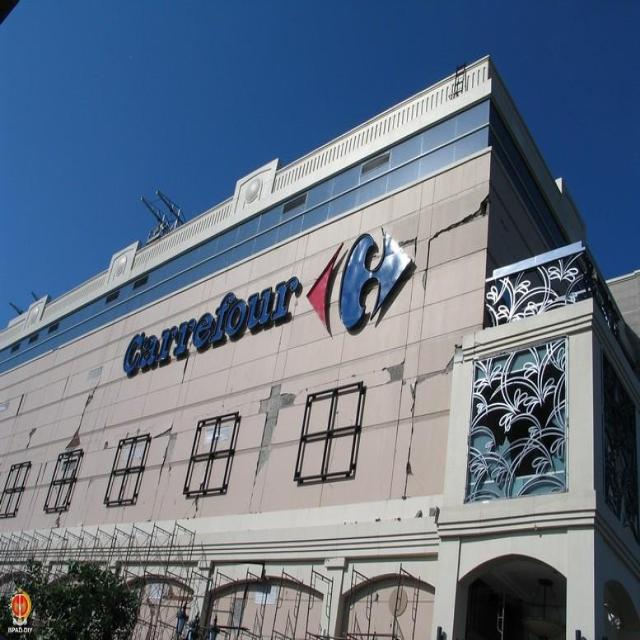damage: (244, 376, 296, 490), (399, 393, 425, 509), (412, 357, 484, 398), (430, 201, 498, 241), (151, 422, 184, 483), (78, 374, 102, 446), (374, 356, 412, 394)
